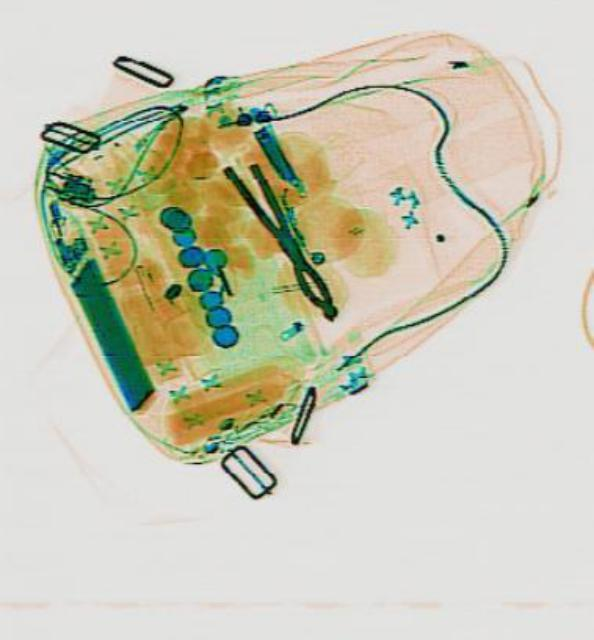Pliers: (218, 149, 344, 325)
